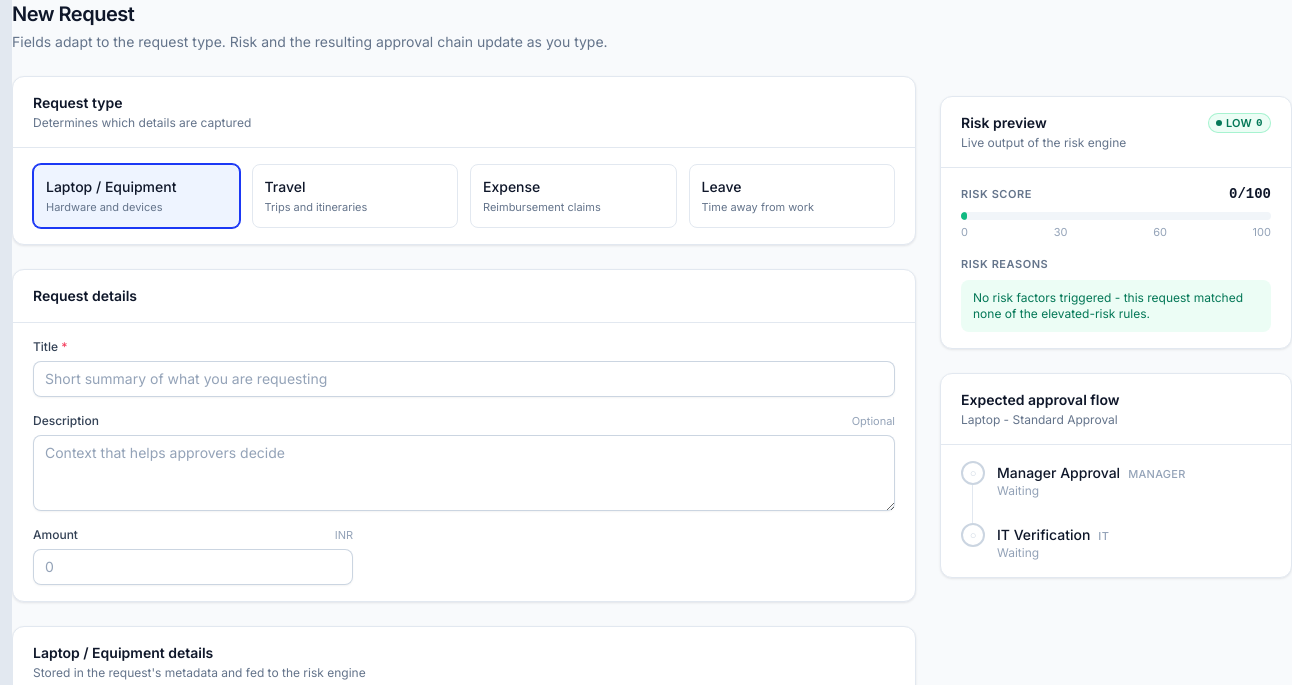
Risk preview on the request form › escalates the displayed approval chain along with the risk level
Expected: the text "IT Verification" is shown, [997,525,1090,545]
Step 1. Type "200000" into the number field labelled "Amount INR" → (193, 567), box [33,549,353,585]
(page scrolled)
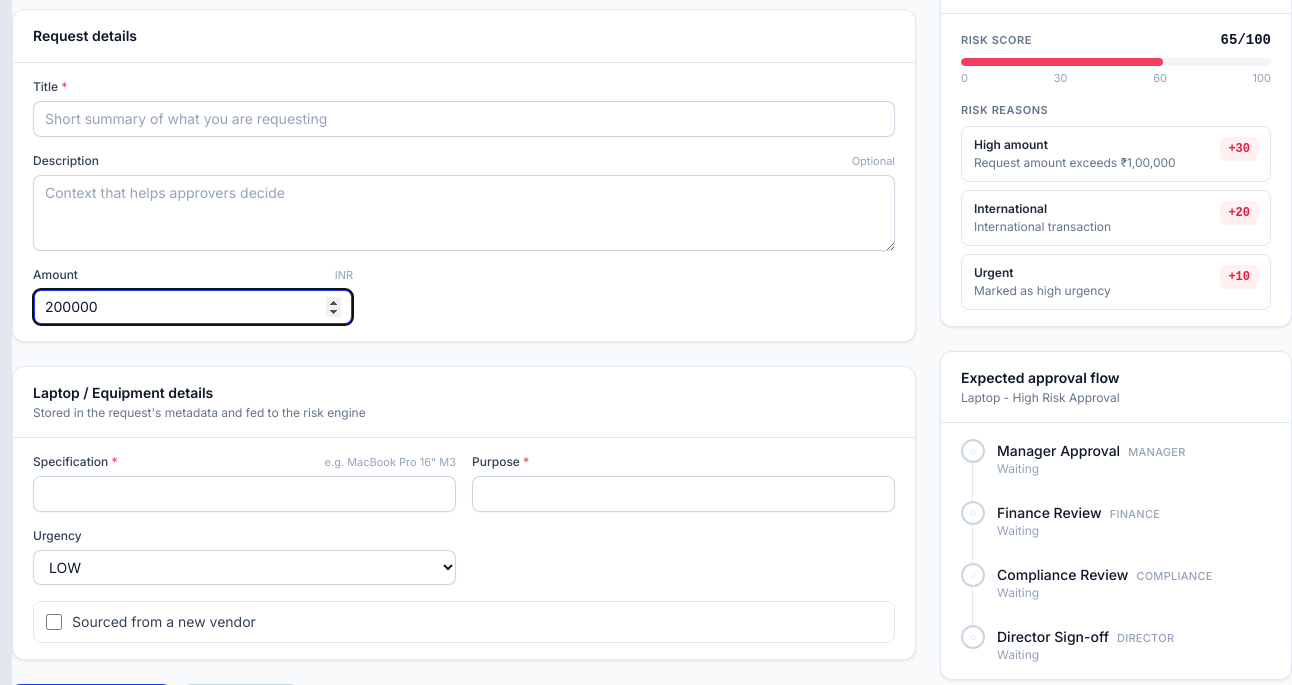
Expected: the text "Director Sign-off" is shown, [997,627,1109,647]
Expected: the text "Finance Review" is shown, [997,503,1102,523]
Expected: the text "Compliance Review" is shown, [997,565,1128,585]
